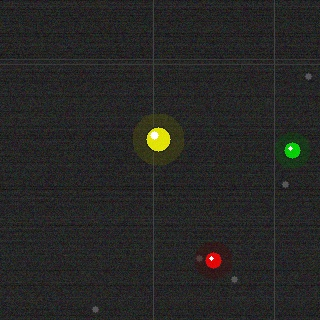green_normal: (282, 140, 302, 160)
red_fault: (203, 250, 223, 270)
yellow_warning: (144, 125, 172, 153)
